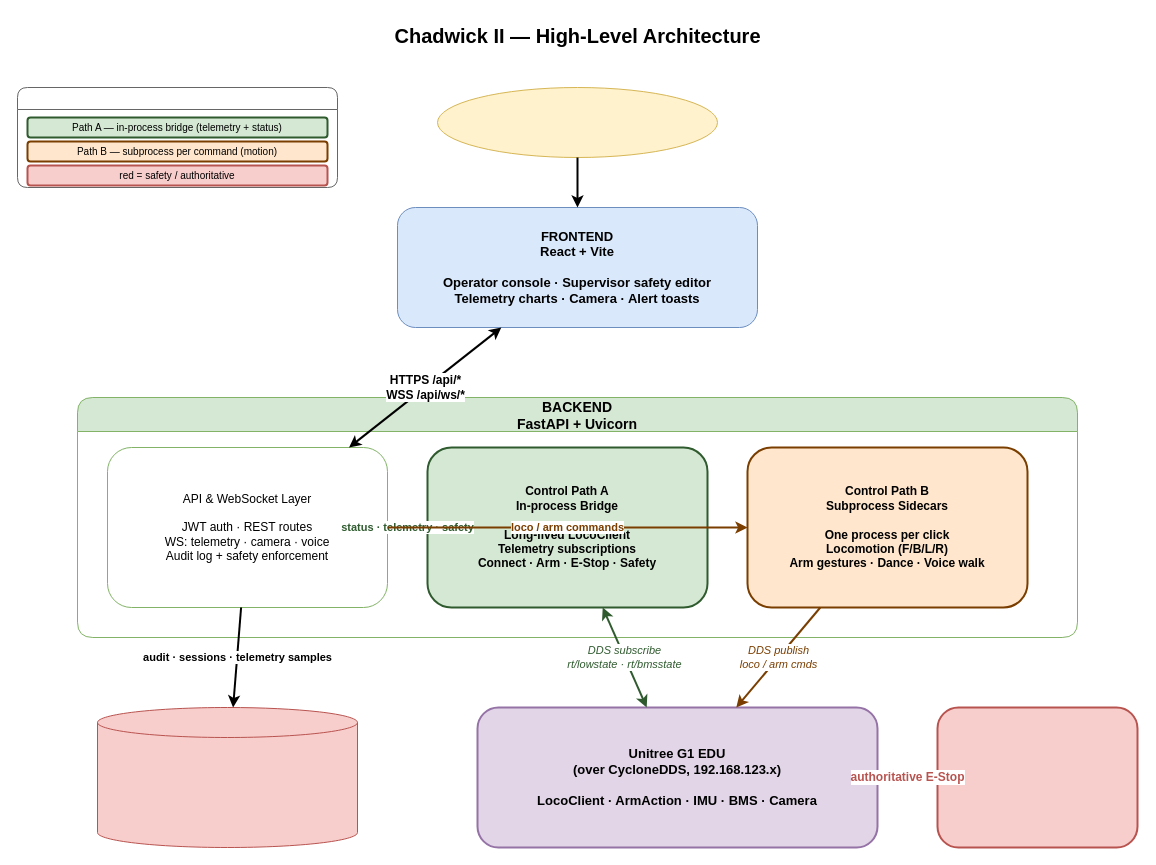
The diagram is 1156 pixels wide and 865 high, and some of its shapes have lost their labels. The box of each missing label's shape, as (x1, y1, x2, y2) in pixels:
Handheld R2+A → sport_mode L2+B → E-STOP (authoritative): (936, 706, 1138, 848)
Legend: (16, 86, 338, 188)
Operator / Supervisor (browser, same room as robot): (436, 86, 718, 158)
SQLite chadwick.db users · sessions audit log · telemetry samples safety config: (96, 706, 358, 848)
